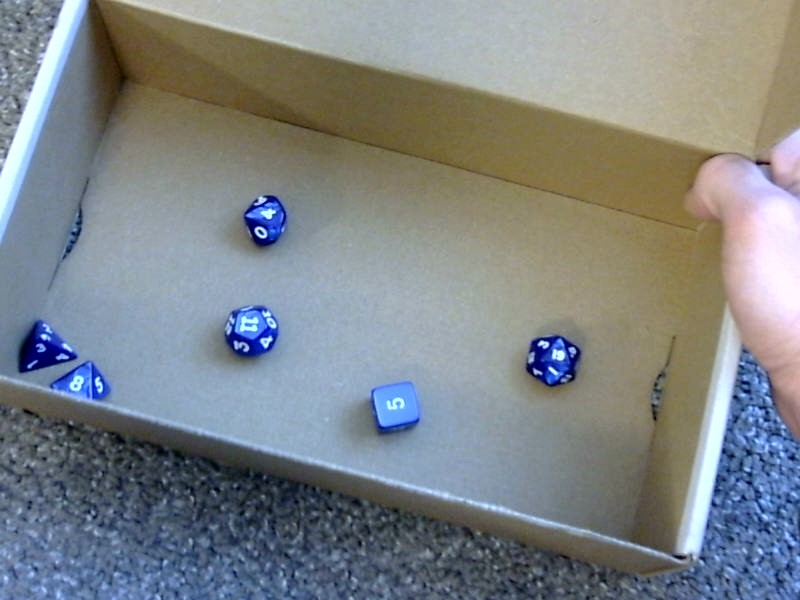d10 4: (235, 189, 291, 252)
d12 11: (221, 298, 281, 360)
d20 19: (525, 329, 583, 390)
d4 3: (13, 310, 77, 371)
d6 5: (363, 373, 423, 439)
d8 8: (49, 358, 116, 402)
